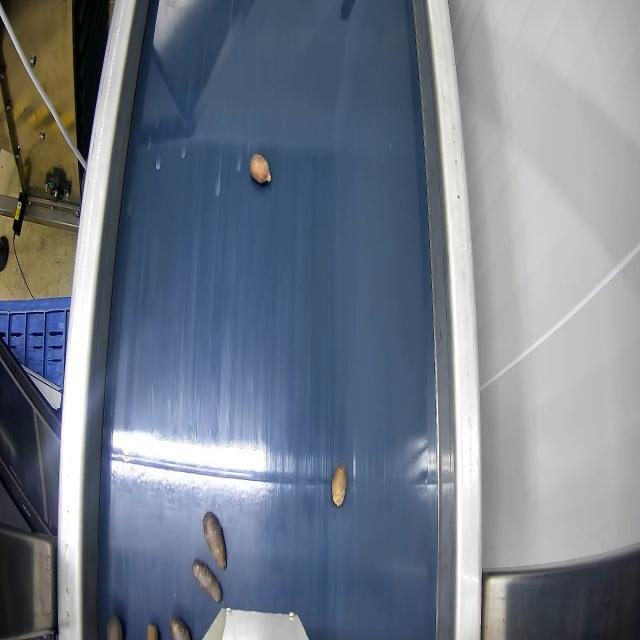Baby Potato: (203, 512, 226, 569), (193, 560, 221, 601), (332, 465, 347, 506), (250, 154, 270, 183), (170, 616, 190, 639), (107, 616, 122, 639), (147, 624, 158, 639)
